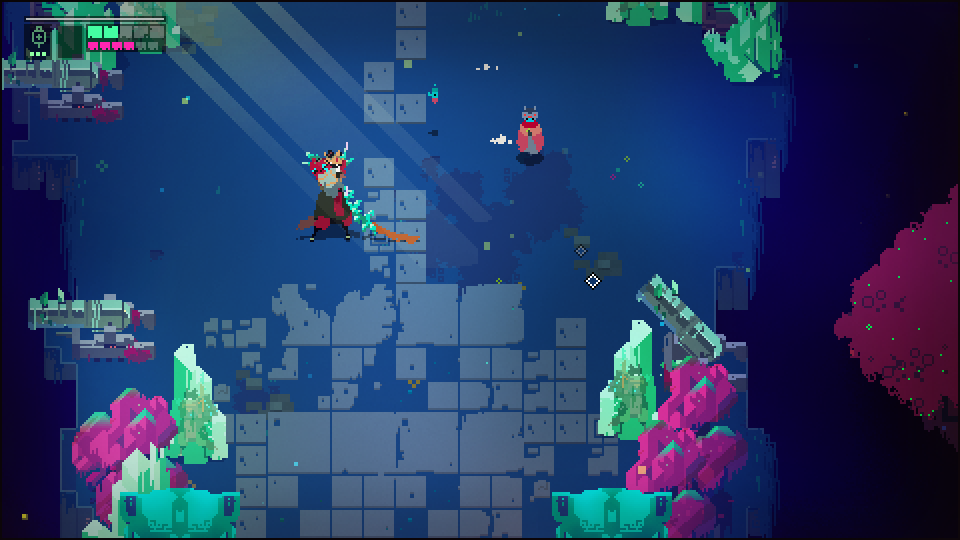hanged_man: (294, 139, 383, 247)
player: (514, 103, 547, 162)
